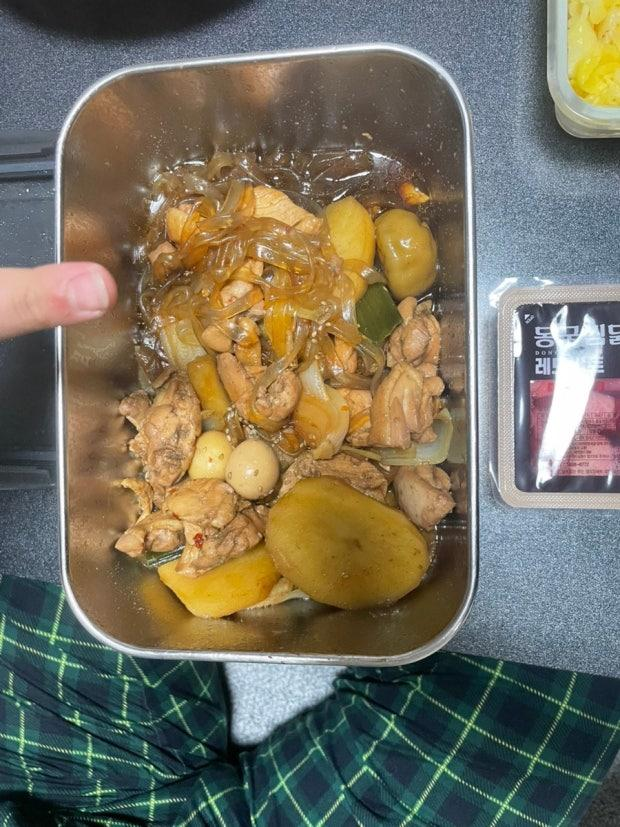Lunch Box: (57, 44, 476, 664), (497, 285, 619, 507), (546, 0, 619, 137)
